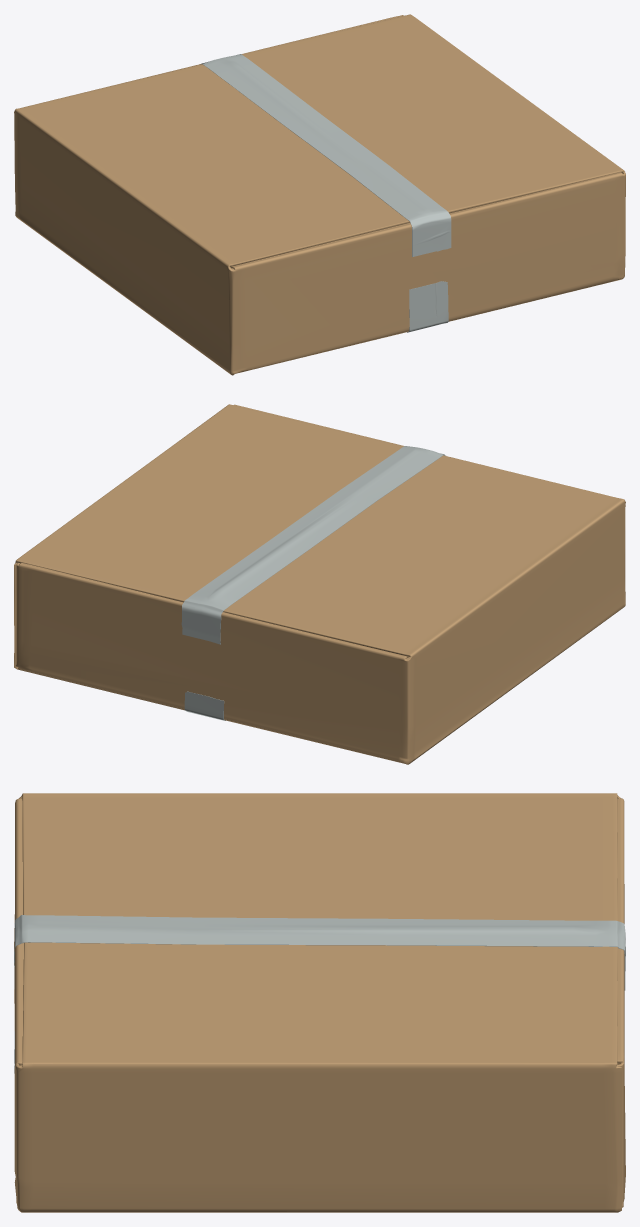
The model's file is box_flat_a08.glb.
3 renders of one model, top to bottom at view 1: azimuth 30°, elevation 25°; view 2: azimuth 150°, elevation 25°; view 3: azimuth 270°, elevation 25°, orthographic. The views are drawn at different scales.
Bounding box in the file's own units: 0.3077 × 0.0844 × 0.2948.
